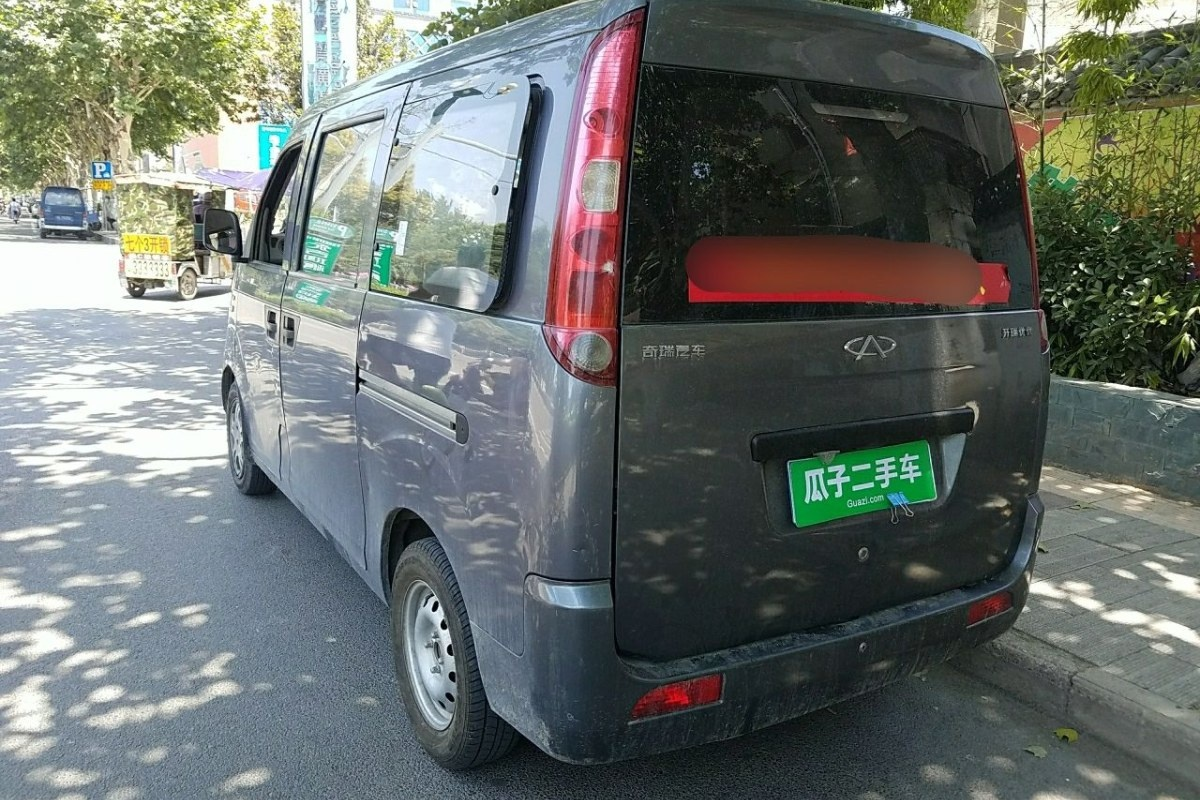minibus: (205, 23, 1046, 766)
